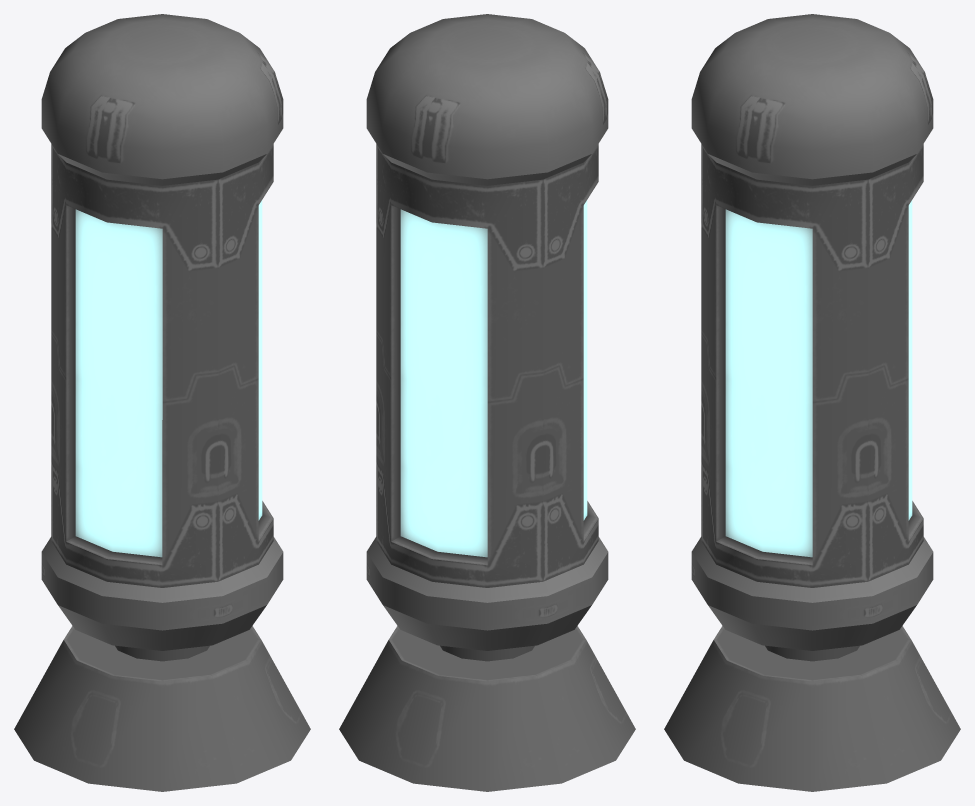
File: Pfb_Soda_LightProp.fbx
3 views of the same model, side by side, from view 1: azimuth 30°, elevation 25°; view 2: azimuth 150°, elevation 25°; view 3: azimuth 270°, elevation 25° (orthographic).
Parts seen in each view (by area): view 1: MAT_LightProp 2; view 2: MAT_LightProp 2; view 3: MAT_LightProp 2.
Part boxes in pixels (x1=…): MAT_LightProp 2: x1=14, y1=14, x2=310, y2=791; MAT_LightProp 2: x1=339, y1=14, x2=635, y2=791; MAT_LightProp 2: x1=664, y1=14, x2=960, y2=791.
Bounding box in the file's own units: 2.45 × 6.25 × 2.45.
Materials: 1 (1 with a texture image).
